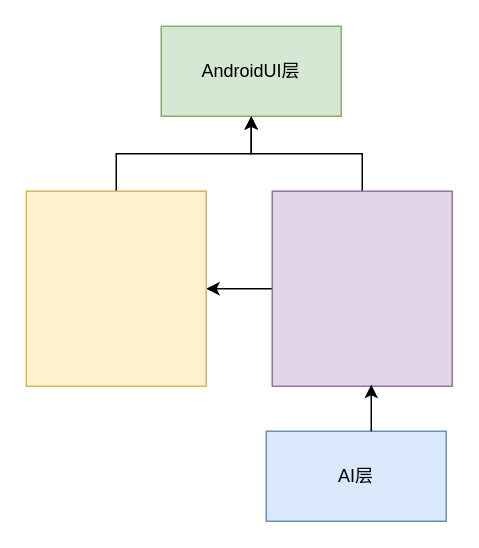
Image size: 479x548. Some labels were removed from this diagram. Here are the shapes that lost their labels. From the top down, the centre of each, then its label:
point (115, 288): 网易云信SDK 登录鉴权 消息收发 消息状态（已读/撤回） 消息推送
point (361, 288): 业务后端 AI 辅助问诊接口 问诊状态管理接口 评分接口 推送
